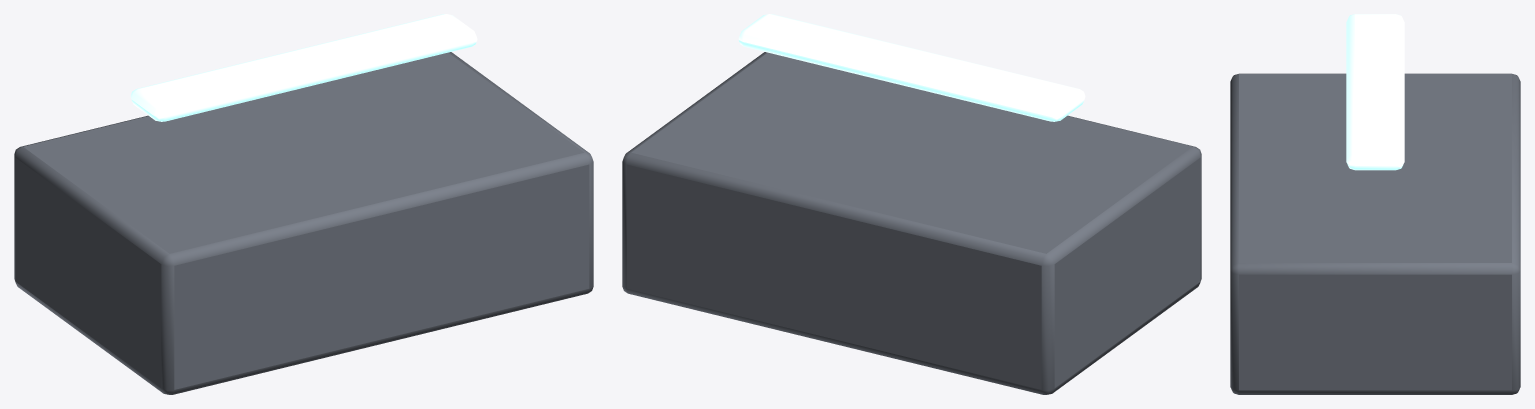
File: SM_TEC_REMNANT_MODULE.fbx
3 views of the same model, side by side, from view 1: azimuth 30°, elevation 25°; view 2: azimuth 150°, elevation 25°; view 3: azimuth 270°, elevation 25° (orthographic). The views are drawn at different scales.
Parts seen in each view (by area): view 1: SM_TEC_REMNANT_MODULE; view 2: SM_TEC_REMNANT_MODULE; view 3: SM_TEC_REMNANT_MODULE.
Boxes of the visible parts, box(x1,y1,x2,y2) form: SM_TEC_REMNANT_MODULE: box(14, 14, 593, 394); SM_TEC_REMNANT_MODULE: box(622, 14, 1201, 394); SM_TEC_REMNANT_MODULE: box(1230, 14, 1520, 394).
Size of what is drawn, in the model's own units: 0.08 by 0.041 by 0.05.
